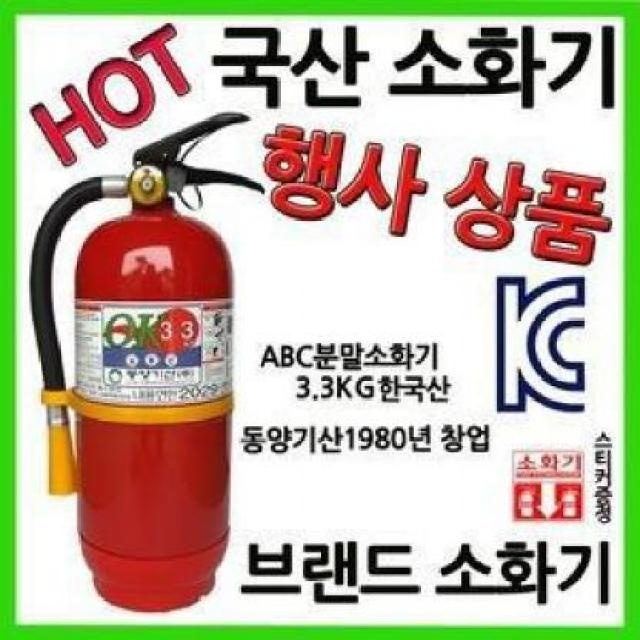fire extinguisher: (30, 111, 264, 612)
